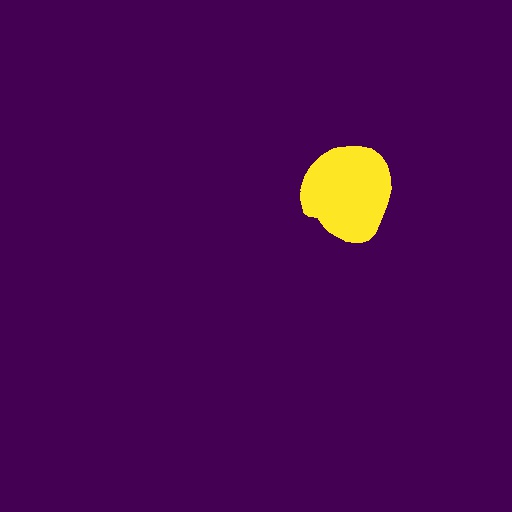Menigiomia_tumour: (300, 146, 392, 243)
